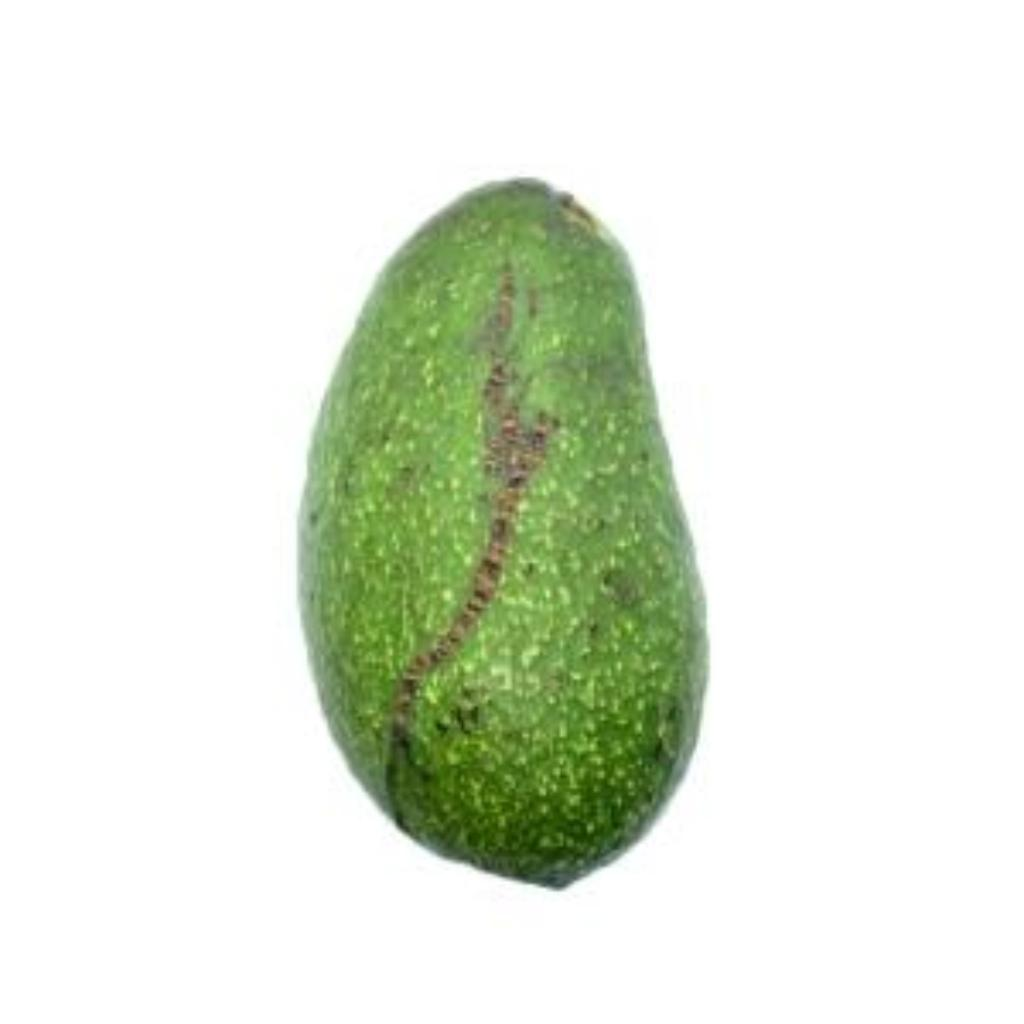cercospora_spot: (281, 147, 725, 895)
